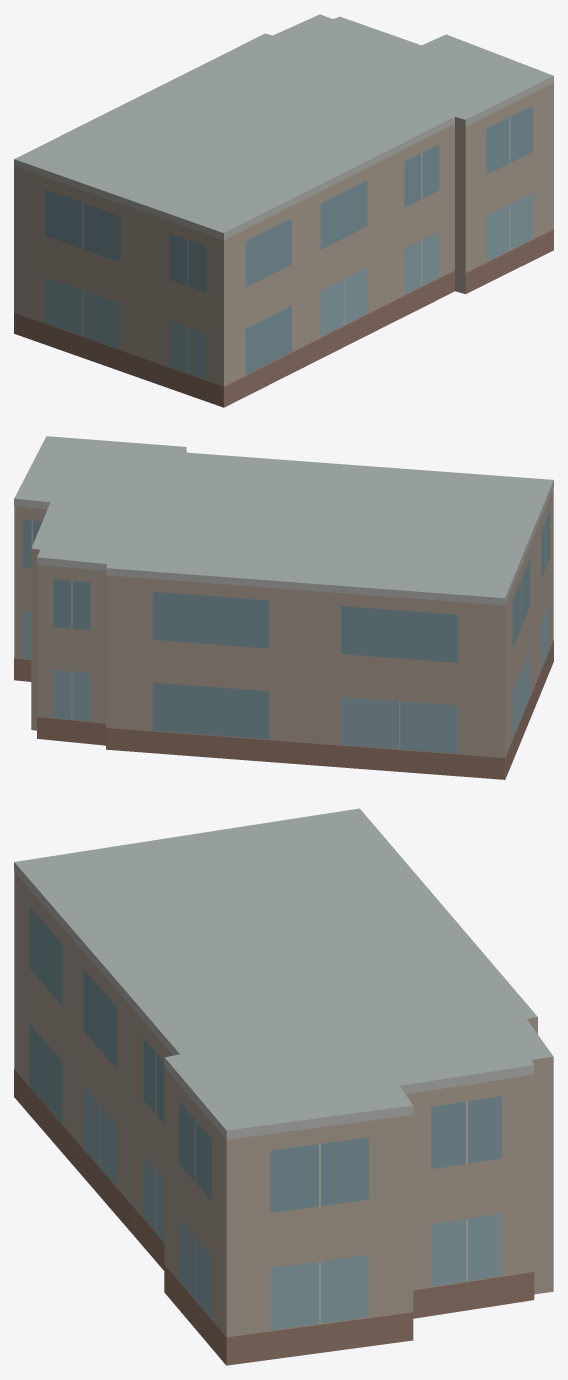
The model's file is survey-upis-32658877.glb.
3 renders of one model, top to bottom at view 1: azimuth 30°, elevation 25°; view 2: azimuth 150°, elevation 25°; view 3: azimuth 270°, elevation 25°, orthographic. The views are drawn at different scales.
Visible parts, largest first — view 1: survey-upis-32658877.tmp; view 2: survey-upis-32658877.tmp; view 3: survey-upis-32658877.tmp.
Boxes of the visible parts, x1,y1,x2,y2 form: survey-upis-32658877.tmp: [14, 14, 553, 407]; survey-upis-32658877.tmp: [14, 436, 553, 779]; survey-upis-32658877.tmp: [14, 808, 553, 1365].
Size of the model in its own units: 17.95 by 6.1 by 12.71.
